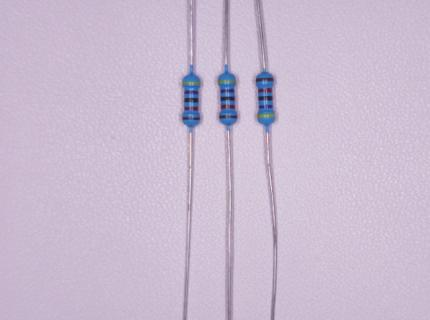Black band: (258, 96, 273, 101), (184, 98, 198, 103), (220, 97, 235, 101)
Brown band: (219, 115, 238, 119), (256, 78, 275, 82), (182, 117, 200, 120)
Red band: (184, 106, 198, 111), (258, 88, 272, 93), (221, 105, 235, 109)
Violet band: (184, 90, 198, 94), (220, 89, 234, 93), (259, 105, 273, 109)
Yellow band: (257, 113, 275, 118), (182, 81, 200, 85), (218, 80, 236, 83)
